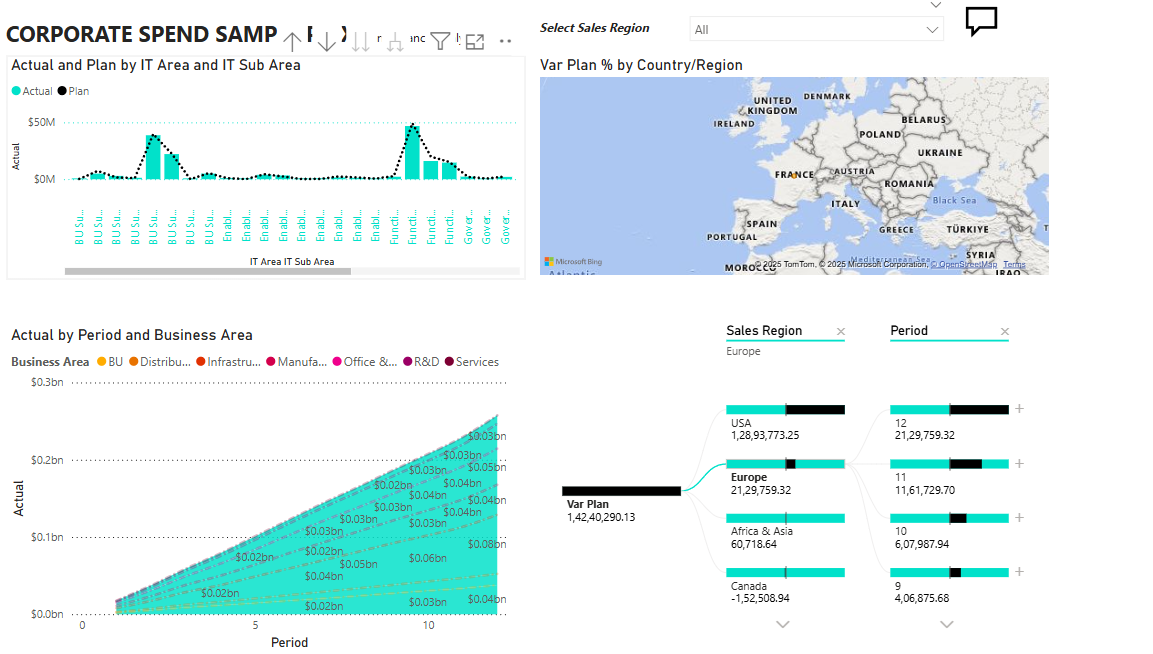

What the dashboard file says about the page in this screenshot:
{"tool":"powerbi","page":{"name":"Page 2","canvas":[1280,720],"ordinal":1},"visuals":[{"type":"textbox","box":[9.8,18.3,563.7,45.2],"z":0},{"type":"lineStackedColumnComboChart","fields":{"Category":["IT Area.IT Area","IT Area.IT Sub Area"],"Y":["Fact.Actual"],"Y2":["Fact.Plan"]},"box":[19.6,63.6,568.6,245.8],"z":2},{"type":"map","fields":{"Category":["Country Region.Country/Region"]},"box":[599.2,63.6,568.6,245.8],"z":3},{"type":"stackedAreaChart","fields":{"Category":["Date.Period"],"Y":["Fact.Actual"],"Series":["Business Area.Business Area"]},"box":[19.6,359.5,553.9,360.7],"z":4},{"type":"decompositionTreeVisual","fields":{"Analyze":["Fact.Var Plan"],"ExplainBy":["Country Region.Sales Region","Date.Period","IT Area.IT Area","IT Area.IT Sub Area","Country Region.Country/Region"]},"box":[599.2,339.9,568.6,380.3],"z":5},{"type":"textbox","box":[573.5,18.3,184.6,45.2],"z":6},{"type":"actionButton","box":[1067.5,3.7,100.3,44],"z":7},{"type":"slicer","fields":{"Values":["Country Region.Sales Region"]},"box":[758.2,0,299.6,63.6],"z":8}]}

Visuals, with their boxes on the page's 1280x720 design canvas (x1, y1, x2, y2). These are canvas units, not pixel positions in the 1153x654 screenshot, which may show the page scaled, cropped or inside an application window:
textbox: <region>10, 18, 574, 64</region>
lineStackedColumnComboChart - IT Area.IT Area x IT Area.IT Sub Area: <region>20, 64, 588, 309</region>
map - Country Region.Country/Region: <region>599, 64, 1168, 309</region>
stackedAreaChart - Date.Period x Fact.Actual: <region>20, 360, 574, 720</region>
decompositionTreeVisual - Fact.Var Plan x Country Region.Sales Region: <region>599, 340, 1168, 720</region>
textbox: <region>574, 18, 758, 64</region>
actionButton: <region>1068, 4, 1168, 48</region>
slicer - Country Region.Sales Region: <region>758, 0, 1058, 64</region>
